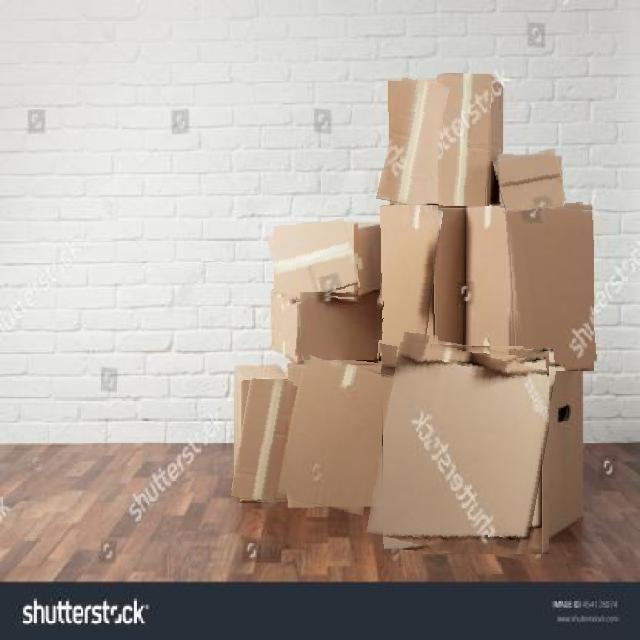BoxFace: (374, 340, 549, 554), (280, 360, 388, 512), (508, 204, 594, 371), (374, 205, 438, 357), (382, 78, 443, 207), (235, 379, 293, 503), (437, 74, 491, 206), (270, 222, 358, 303), (297, 295, 383, 362), (496, 151, 564, 211)
